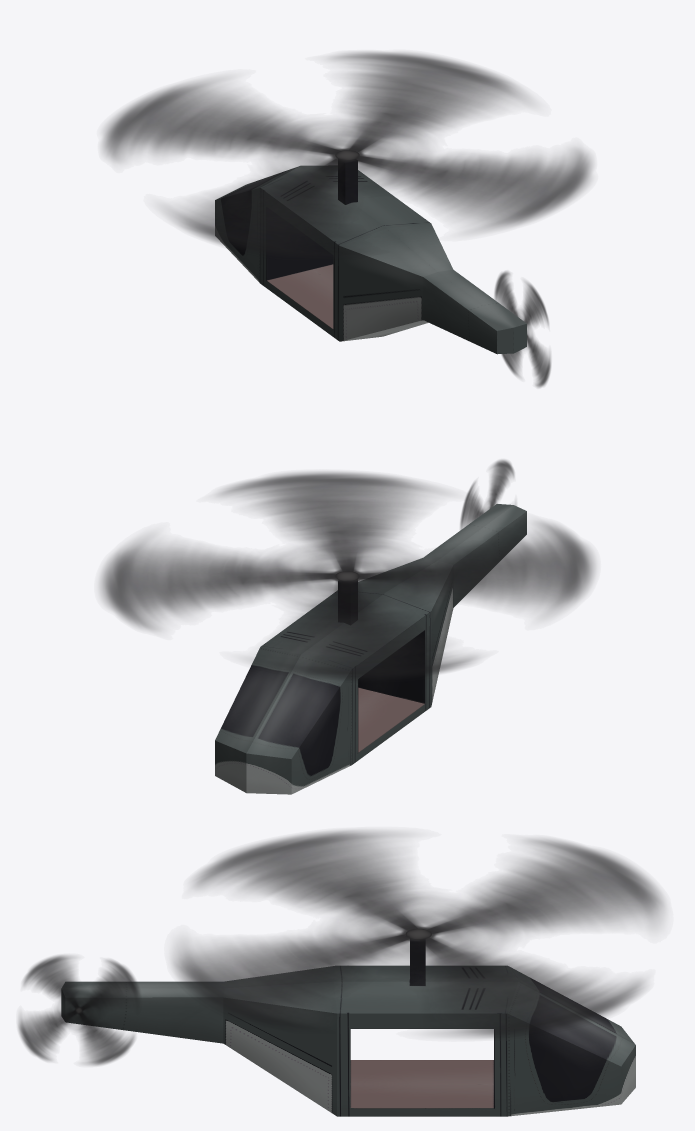
Rendered from chopper.glb.
3 views of the same model, one above another, from view 1: azimuth 30°, elevation 25°; view 2: azimuth 150°, elevation 25°; view 3: azimuth 270°, elevation 25° (orthographic). The views are drawn at different scales.
Parts seen in each view (by area): view 1: chopperBlades, chopperBody, chopperPropellor; view 2: chopperBlades, chopperBody, chopperPropellor; view 3: chopperBlades, chopperBody, chopperPropellor.
Boxes of the visible parts, box(x1,y1,x2,y2) form: chopperBlades: box(102, 52, 592, 258); chopperBody: box(215, 161, 526, 354); chopperPropellor: box(494, 271, 550, 387); chopperBlades: box(100, 472, 595, 680); chopperBody: box(215, 504, 526, 794); chopperPropellor: box(460, 460, 515, 529); chopperBlades: box(173, 830, 664, 1037); chopperBody: box(61, 940, 635, 1116); chopperPropellor: box(18, 955, 139, 1065).
Bounding box in the file's own units: 9.23 × 3.24 × 11.74.
2 materials, 2 textured.
